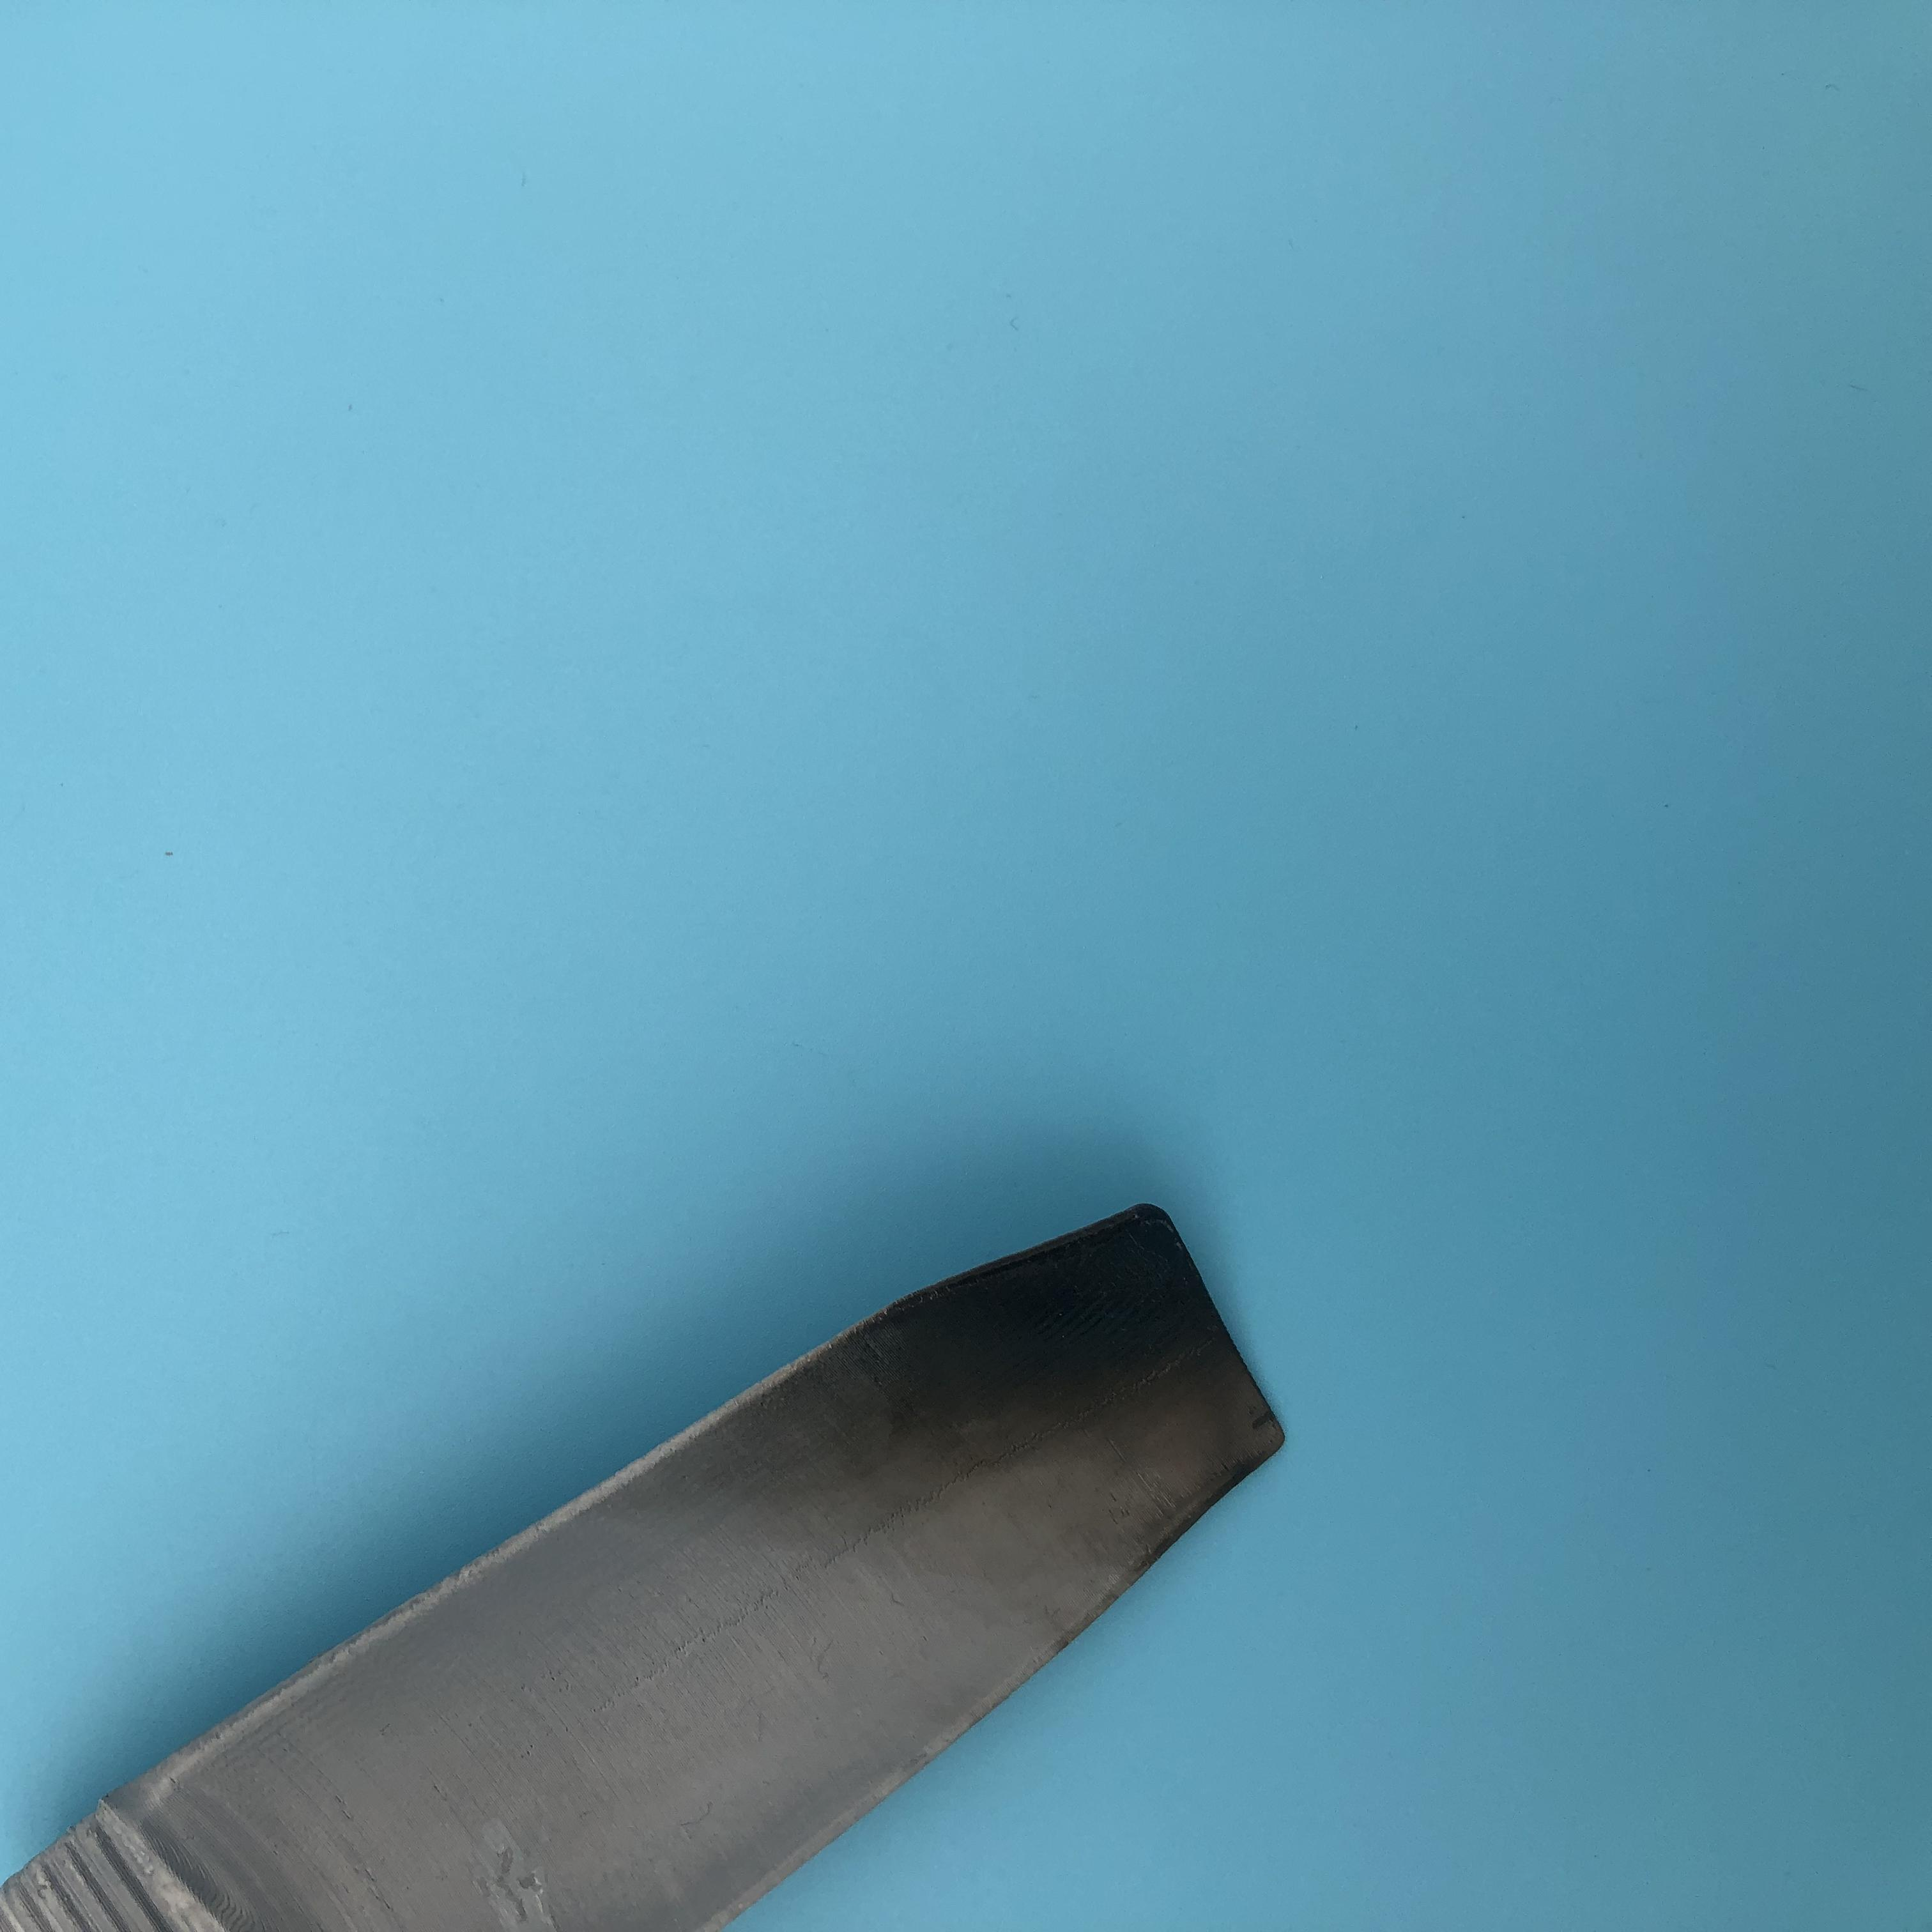ablation: (879, 1226, 1274, 1548)
